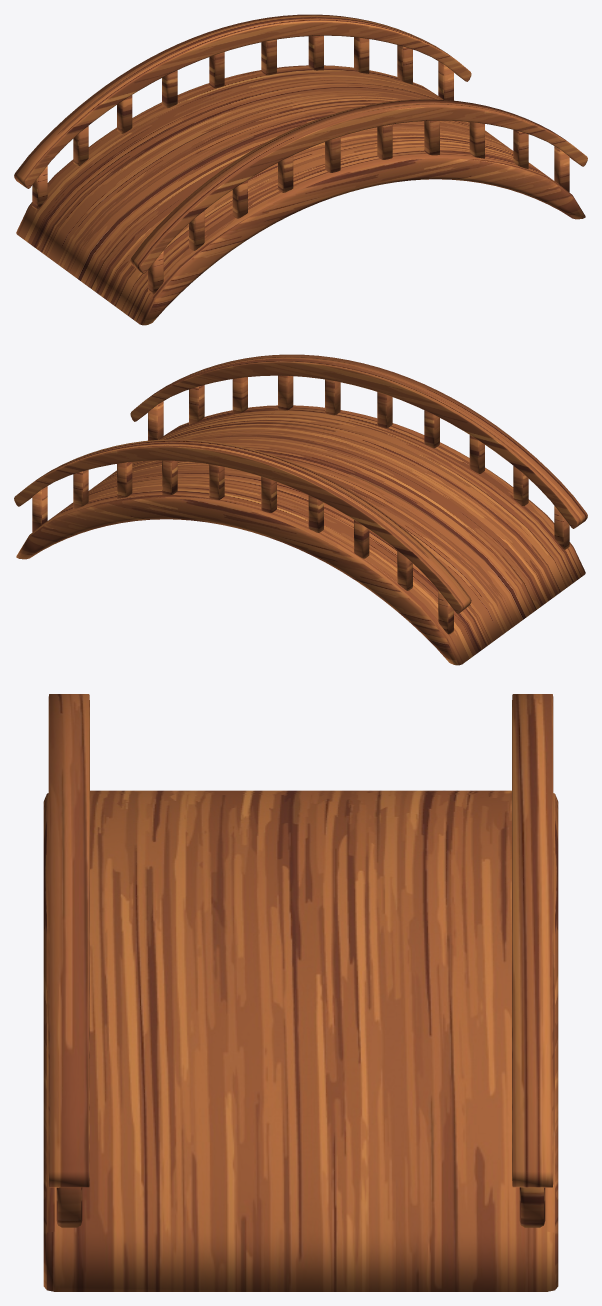
Rendered from CarryBridgeWood.fbx.
The picture shows the model from 3 angles, top to bottom: view 1: azimuth 30°, elevation 25°; view 2: azimuth 150°, elevation 25°; view 3: azimuth 270°, elevation 25°; orthographic projection. The views are drawn at different scales.
Visible parts, largest first — view 1: bridge; view 2: bridge; view 3: bridge.
Part boxes in pixels (left/top/right/bottom): bridge: left=14, top=14, right=587, bottom=325; bridge: left=14, top=354, right=587, bottom=665; bridge: left=43, top=694, right=558, bottom=1291.
Bounding box in the file's own units: 101 × 33.35 × 50.
Materials: 1 (1 with a texture image).
